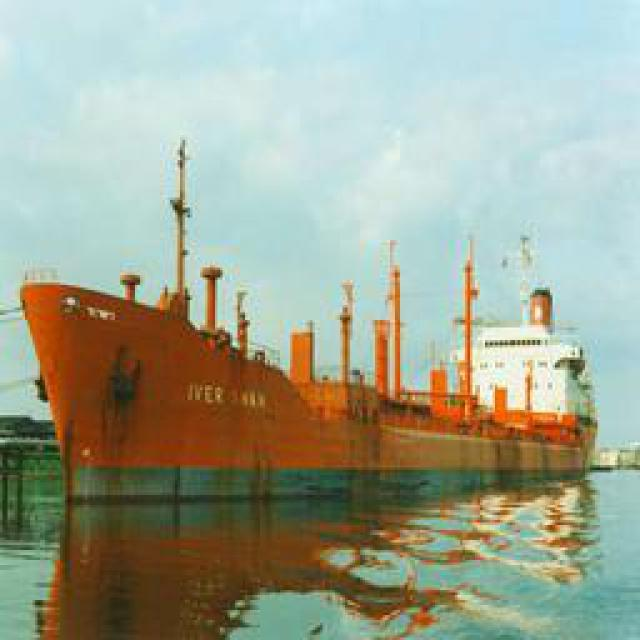Ship: (28, 209, 596, 569)
